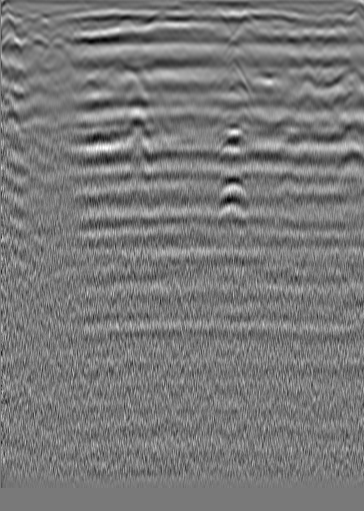가스: (214, 172, 248, 202)
상수: (317, 14, 340, 44)
오수: (24, 30, 44, 50)
우수: (149, 13, 169, 33)
